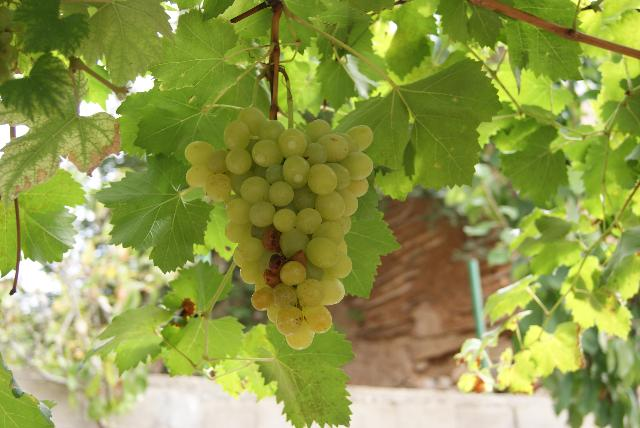grapes: (185, 105, 374, 350)
